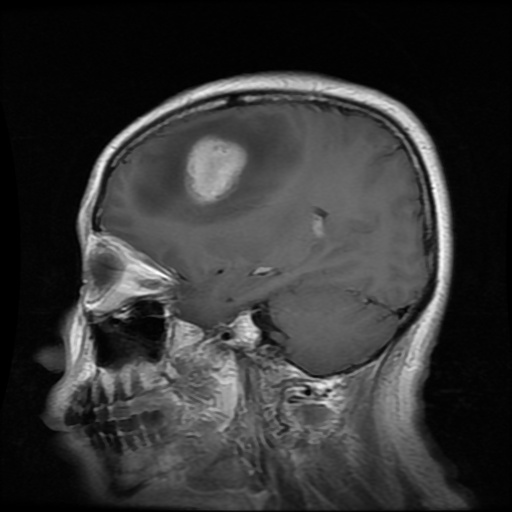meningioma: (185, 134, 247, 204)
